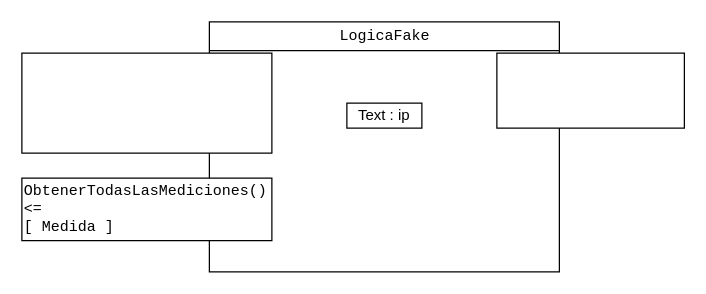
The diagram is 706 pixels wide and 294 high, and some of its shapes have lost their labels. Each missing label, with the centre of its shape:
"medida : Medida <= InsertarMedicion() =>" goes at [590,90].
"N : cuantas => ObtenerUltimasMediciones() <= [ Medida ]" goes at [146,102].
